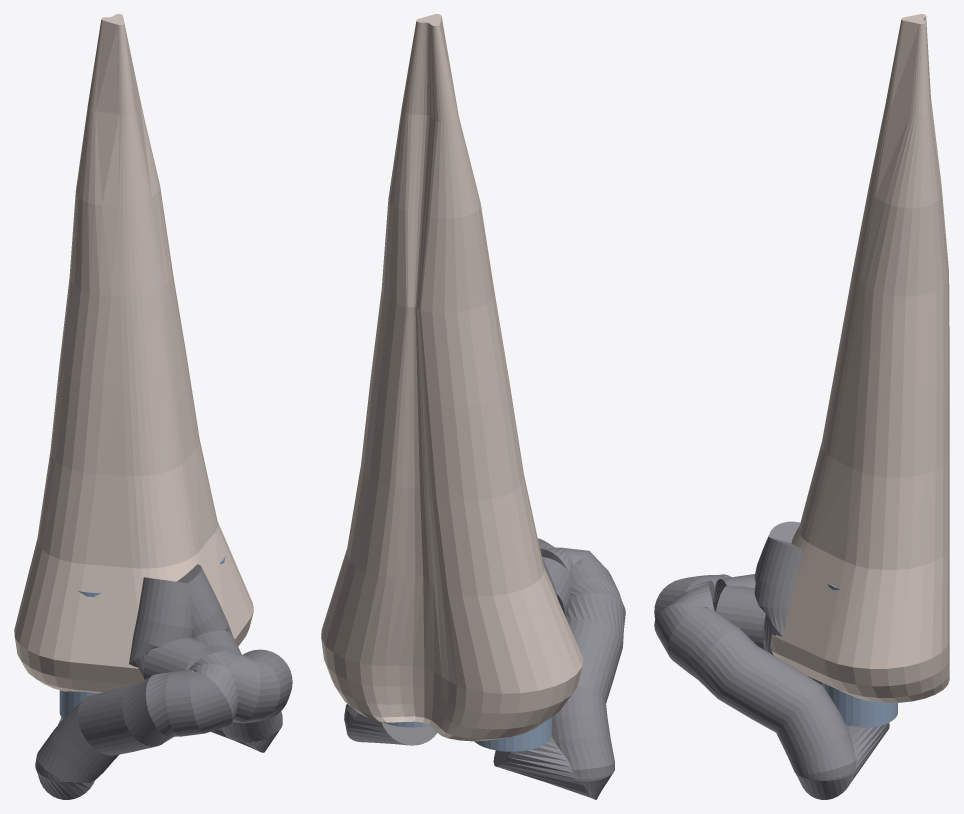
File: candidate_high_retention.glb
3 views of the same model, side by side, from view 1: azimuth 30°, elevation 25°; view 2: azimuth 150°, elevation 25°; view 3: azimuth 270°, elevation 25° (orthographic). The views are drawn at different scales.
Visible parts, largest first — view 1: body, frame_left, frame_right, plug_left; view 2: body, frame_left, frame_right, plug_left; view 3: body, frame_right, frame_left, plug_right.
Boxes of the visible parts, x1=… form: body: x1=14, y1=14, x2=253, y2=693; frame_left: x1=35, y1=577, x2=237, y2=799; frame_right: x1=177, y1=564, x2=292, y2=752; plug_left: x1=59, y1=591, x2=100, y2=718; body: x1=321, y1=14, x2=583, y2=741; frame_left: x1=493, y1=547, x2=625, y2=799; frame_right: x1=344, y1=538, x2=555, y2=745; plug_left: x1=474, y1=582, x2=552, y2=751; body: x1=770, y1=14, x2=949, y2=702; frame_right: x1=654, y1=537, x2=889, y2=799; frame_left: x1=654, y1=521, x2=822, y2=685; plug_right: x1=822, y1=583, x2=897, y2=727.
Bounding box in the file's own units: 22.21 × 63.94 × 23.47.
